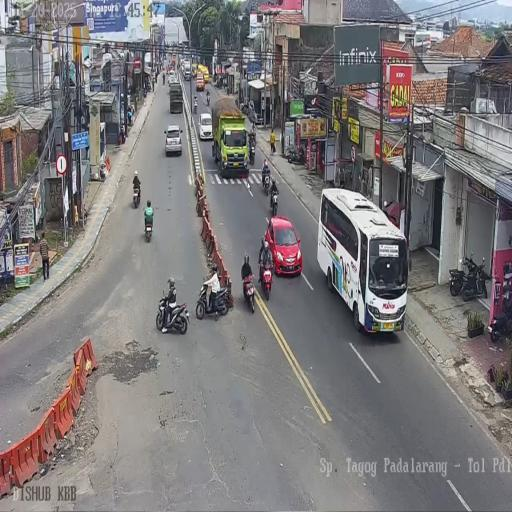3: (212, 97, 248, 178), (169, 82, 183, 114), (182, 59, 192, 81), (172, 56, 175, 65)
car: (265, 215, 302, 276), (164, 124, 182, 156), (198, 113, 213, 141), (196, 72, 204, 90), (168, 73, 178, 86), (203, 68, 209, 83), (191, 63, 197, 77)
truck: (449, 251, 489, 302), (156, 289, 189, 336), (195, 277, 229, 321), (490, 292, 512, 344), (241, 270, 256, 312), (258, 260, 273, 302), (286, 142, 304, 164), (144, 210, 154, 242), (270, 188, 279, 216), (132, 182, 141, 209), (262, 171, 270, 195), (248, 140, 255, 164), (193, 99, 198, 114), (214, 75, 220, 87), (206, 93, 210, 106), (147, 78, 151, 91), (162, 73, 165, 85)
